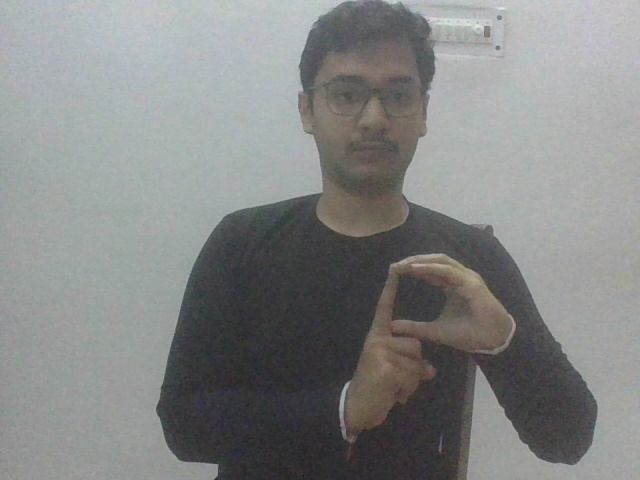D: (341, 251, 509, 445)
